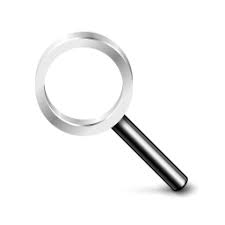searchIcon: (35, 30, 189, 191)
